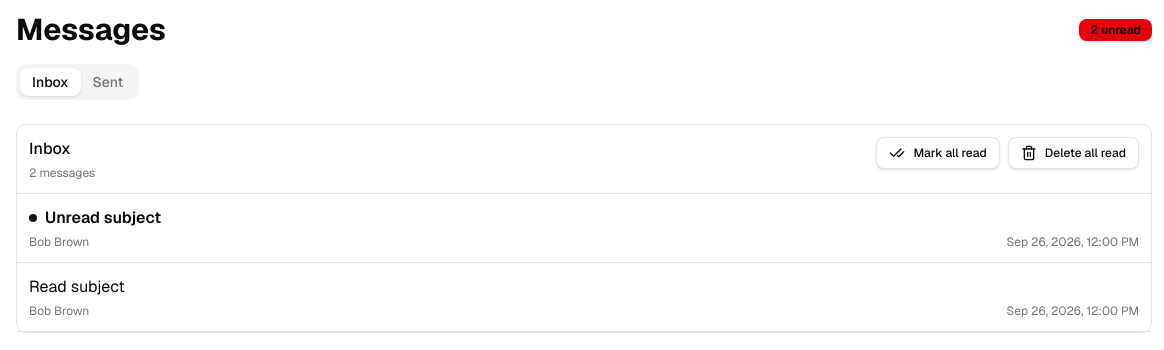
Test: MessagesPage delete controls › does not show mark all read in the sent folder
The width and height of the screenshot is (1164, 350).
Click the tab "Sent" at (108, 82), box [80,68,135,96]
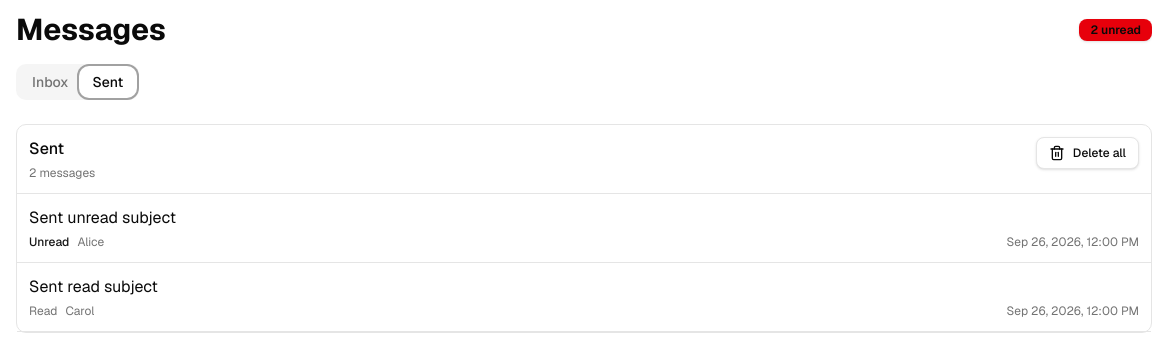
expect the button "Mark all read" is gone: met
